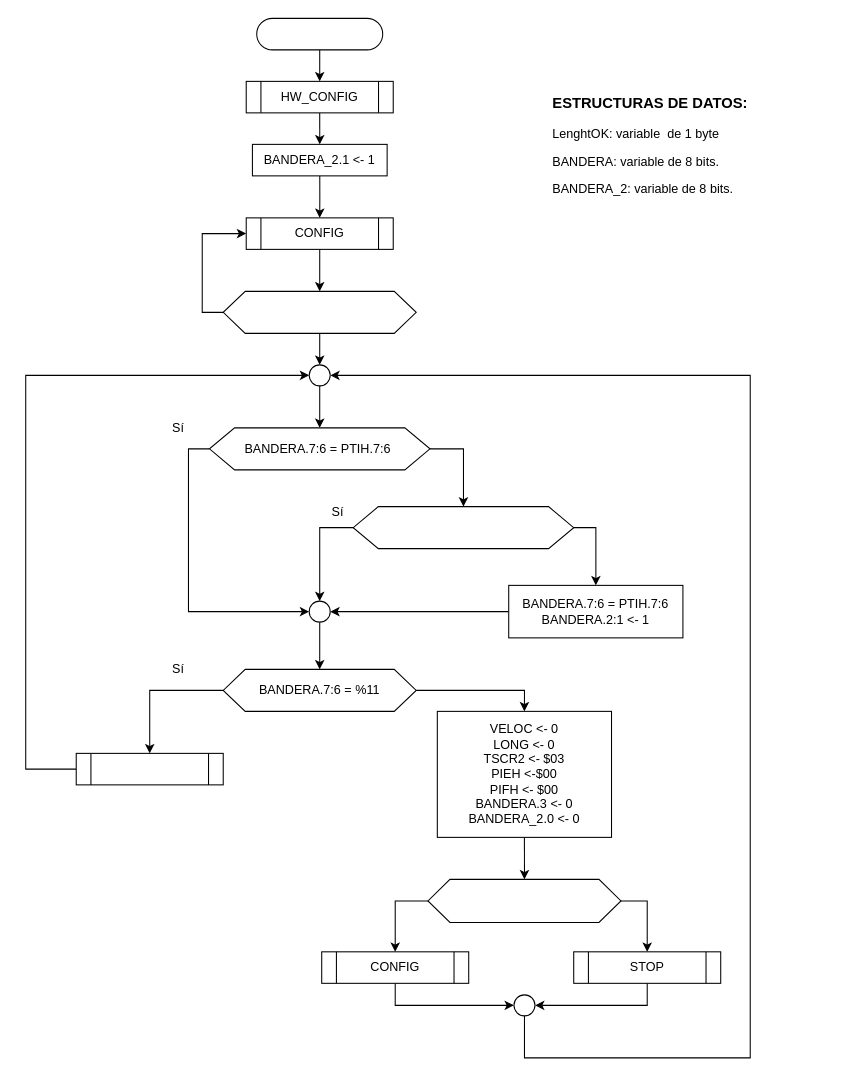
Some shapes in this 852 by 1085 pixel diagram are drawn without their labels. Each missing label, with the centre of its shape:
"LenghtOk = 0" goes at (319,311).
"MAIN" goes at (319,33).
"PITH.7 = 1 && PITH.6 = 0" goes at (524,900).
"PTIH.7:6 = %01" goes at (463,527).
"SELECT" goes at (149,768).
